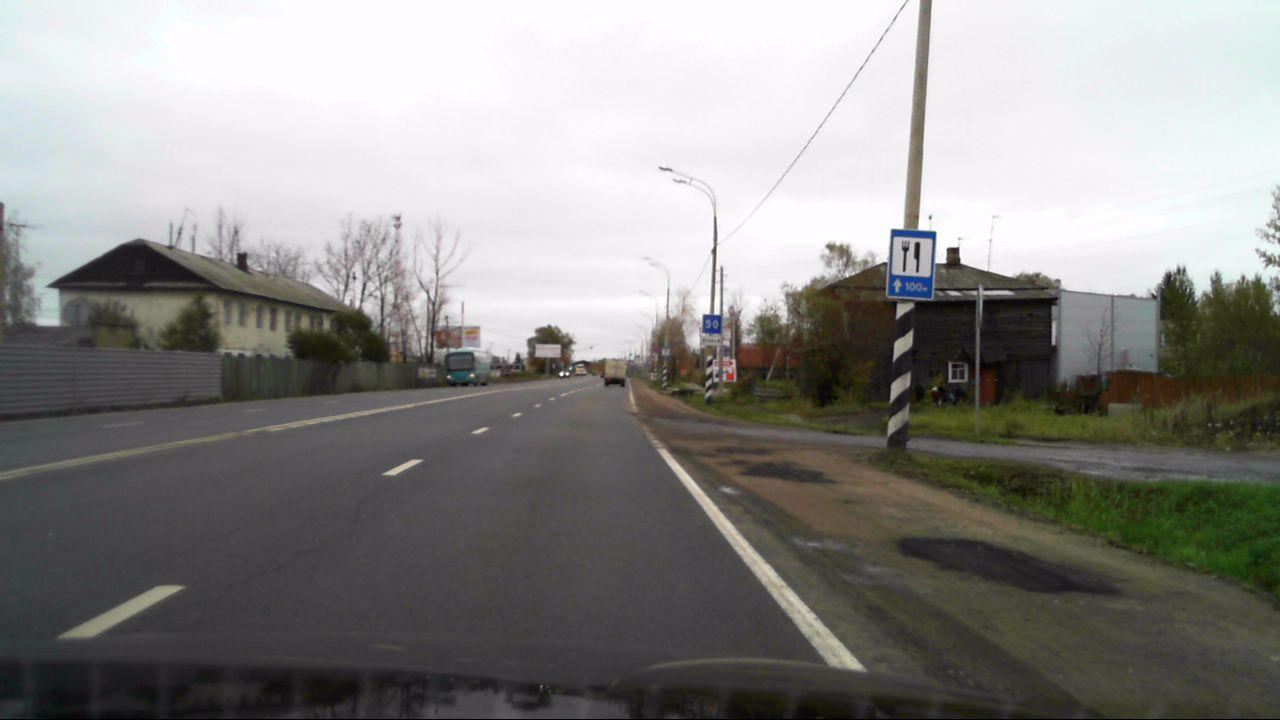6_2: (701, 314, 722, 335)
7_7: (888, 228, 934, 302)
